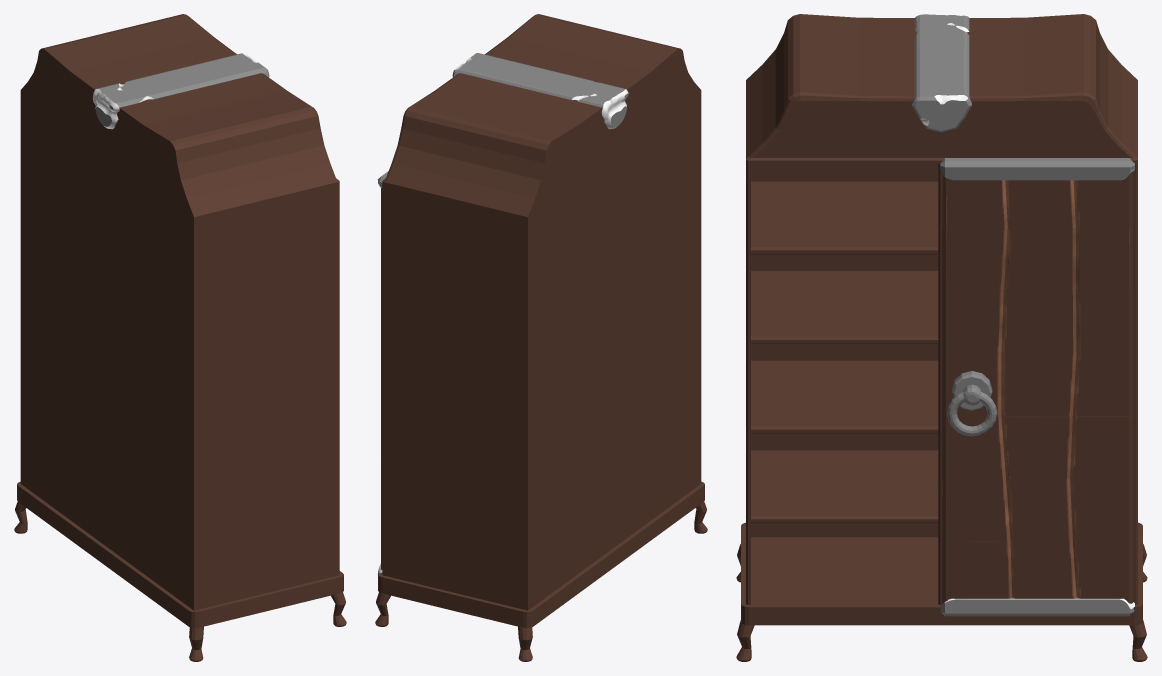
Rendered from wordrobe.fbx.
The picture shows the model from 3 angles, left to right: view 1: azimuth 30°, elevation 25°; view 2: azimuth 150°, elevation 25°; view 3: azimuth 270°, elevation 25°; orthographic projection. The views are drawn at different scales.
Parts seen in each view (by area): view 1: Cube.001, Cylinder_dmg, Circle; view 2: Cube.001, Cylinder_dmg, Circle, Cube; view 3: Cube.001, Cube, Cylinder_dmg, Circle.
Part boxes in pixels (x1,y1,x2,y2): Cube.001: (17,14,343,628); Cylinder_dmg: (93,53,269,129); Circle: (14,501,346,661); Cube.001: (378,14,704,628); Cylinder_dmg: (452,53,628,129); Circle: (375,501,707,661); Cube: (377,171,388,574); Cube.001: (741,14,1142,625); Cube: (940,158,1134,616); Cylinder_dmg: (912,14,971,132); Circle: (736,544,1147,661).
Bounding box in the file's own units: 224 × 621 × 409.
